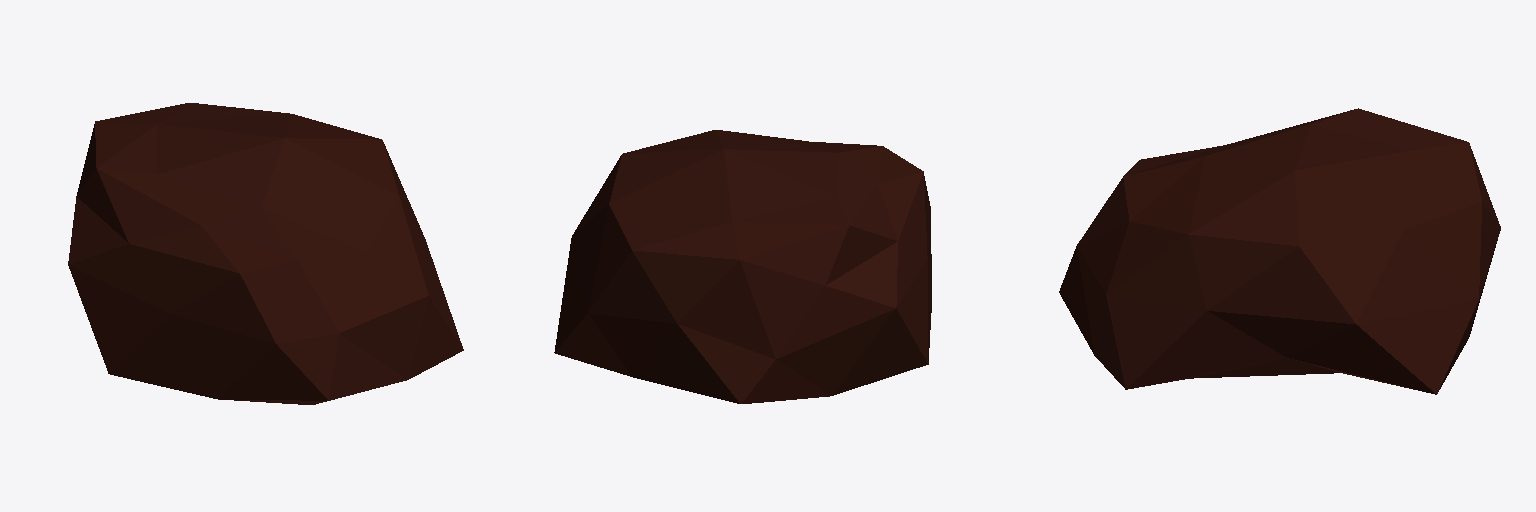
Rendered from stone.obj.
The picture shows the model from 3 angles: view 1: azimuth 30°, elevation 25°; view 2: azimuth 150°, elevation 25°; view 3: azimuth 270°, elevation 25°; orthographic projection.
Size of the model in its own units: 1.1 by 0.6889 by 1.34.